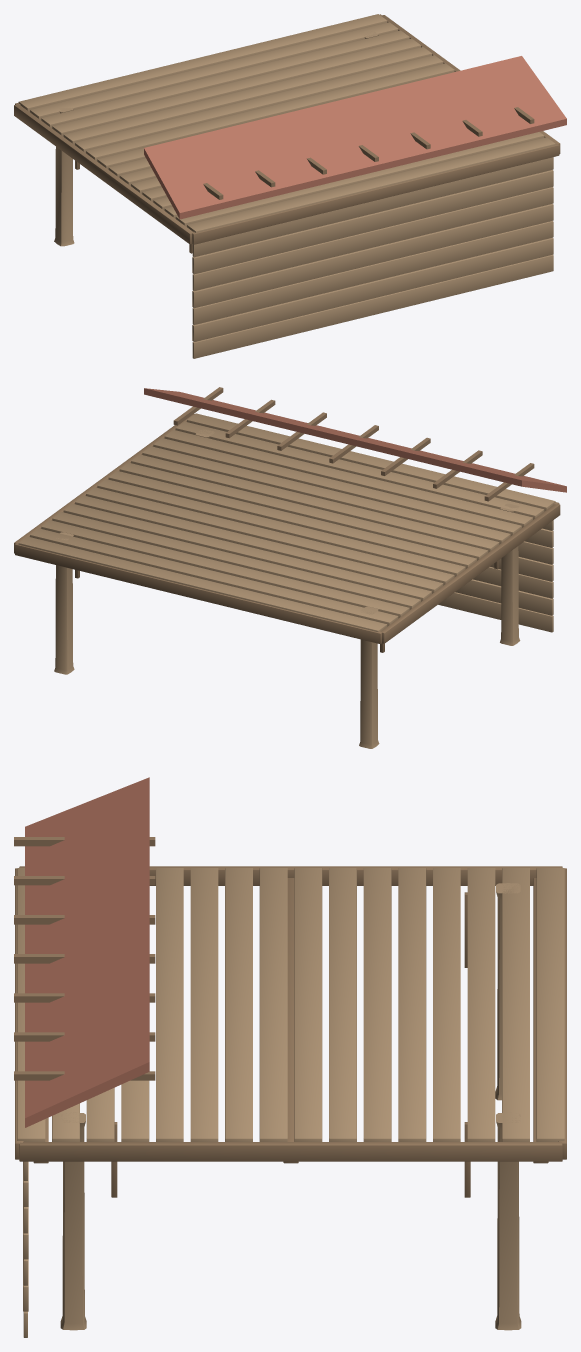
The model's file is struct_barn.glb.
3 renders of one model, top to bottom at view 1: azimuth 30°, elevation 25°; view 2: azimuth 150°, elevation 25°; view 3: azimuth 270°, elevation 25°, orthographic. The views are drawn at different scales.
Parts seen in each view (by area): view 1: struct_barn; view 2: struct_barn; view 3: struct_barn.
Boxes of the visible parts, x1=… form: struct_barn: x1=14, y1=14, x2=566, y2=358; struct_barn: x1=14, y1=387, x2=566, y2=748; struct_barn: x1=14, y1=777, x2=566, y2=1337.
Size of what is drawn, in the model's own units: 12.7 by 5.9 by 10.18.
